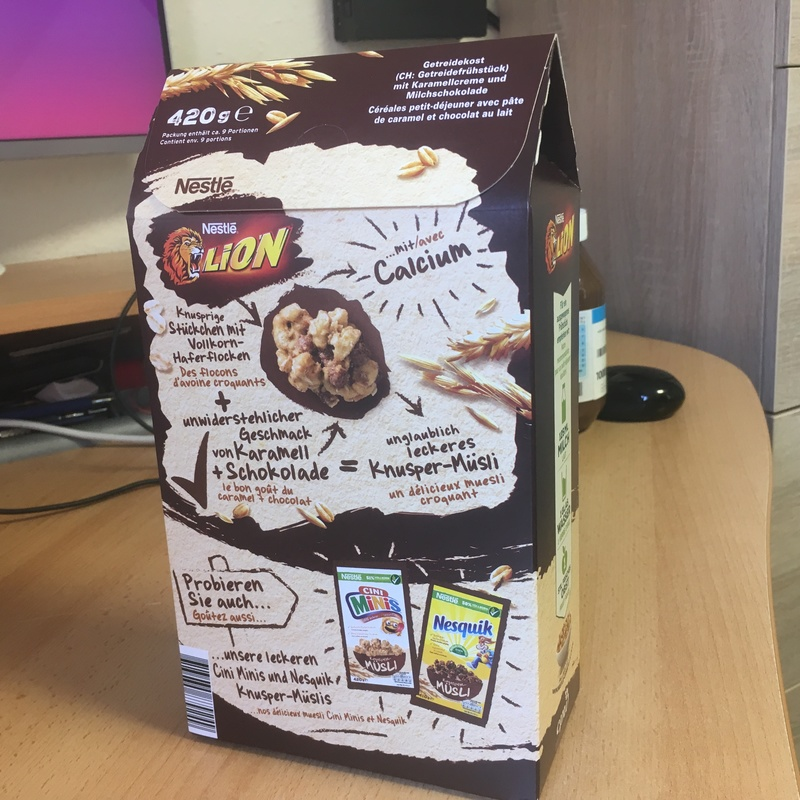cereals: (126, 35, 584, 800)
